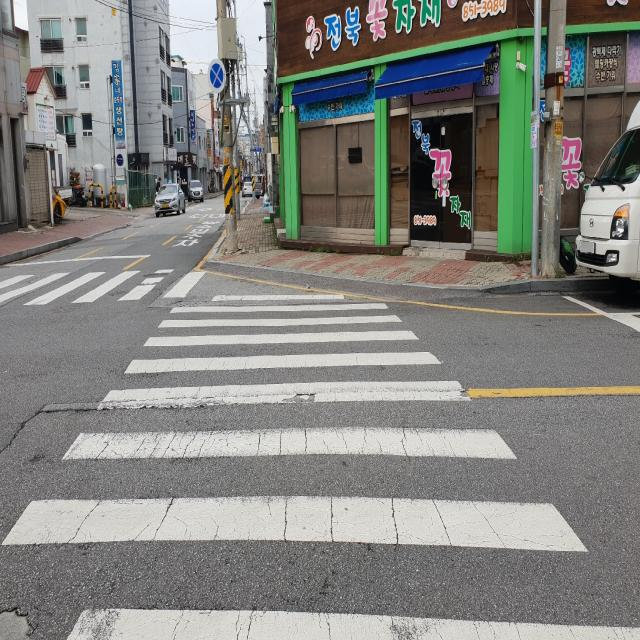횡단보도: (0, 291, 640, 639), (4, 269, 205, 302)
